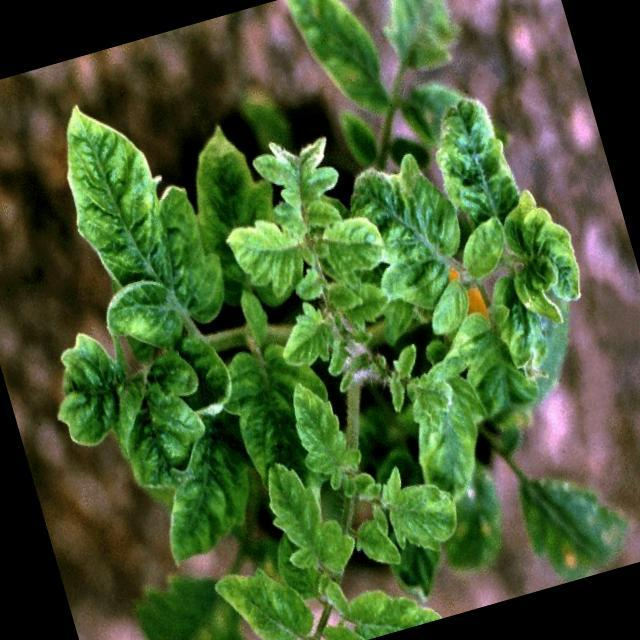Tomato yellow virus leaf: (39, 64, 240, 360), (343, 138, 480, 318), (134, 403, 272, 568), (252, 438, 366, 596), (416, 76, 528, 232), (283, 0, 397, 133), (401, 376, 504, 510), (218, 188, 326, 310), (366, 452, 466, 564), (282, 372, 370, 499), (311, 202, 395, 286), (446, 210, 518, 284), (268, 298, 336, 374), (418, 278, 478, 342)
